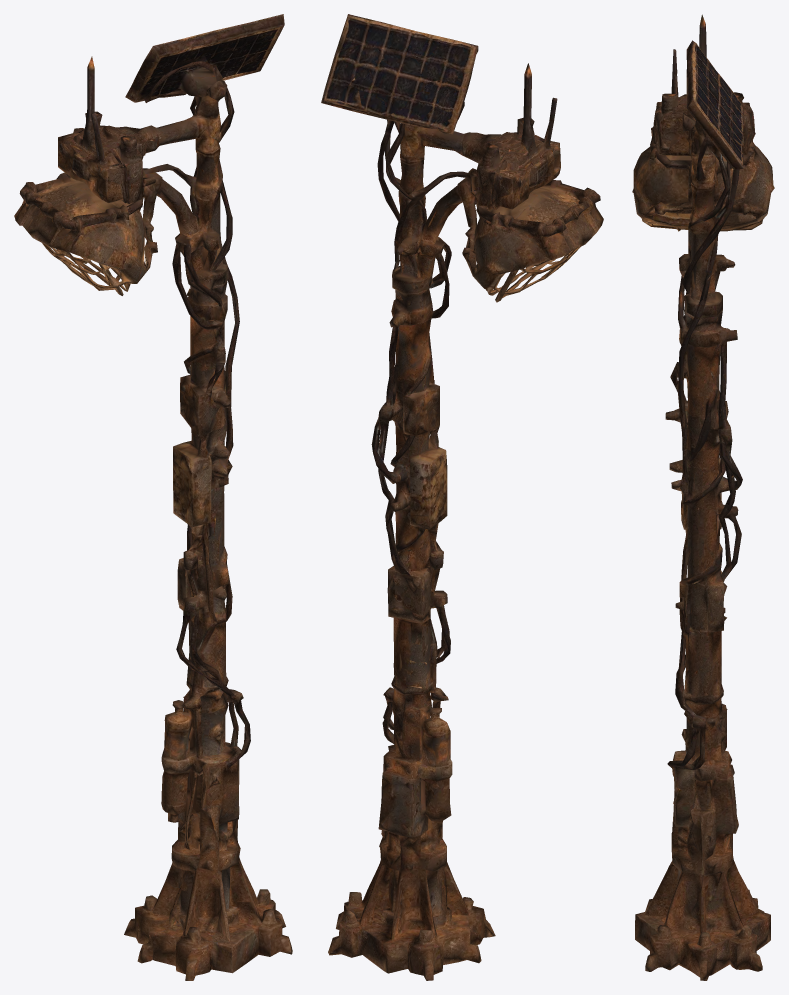
File: light-post.glb
3 renders of one model, left to right at view 1: azimuth 30°, elevation 25°; view 2: azimuth 150°, elevation 25°; view 3: azimuth 270°, elevation 25°, orthographic. The views are drawn at different scales.
Visible parts, largest first — view 1: Mesh_0; view 2: Mesh_0; view 3: Mesh_0.
Boxes of the visible parts, bbox=[...] form: Mesh_0: bbox=[14, 14, 292, 980]; Mesh_0: bbox=[321, 14, 603, 980]; Mesh_0: bbox=[632, 14, 774, 980].
Size of the model in its own units: 0.545 by 1.9 by 0.28.
1 material, 1 textured.
